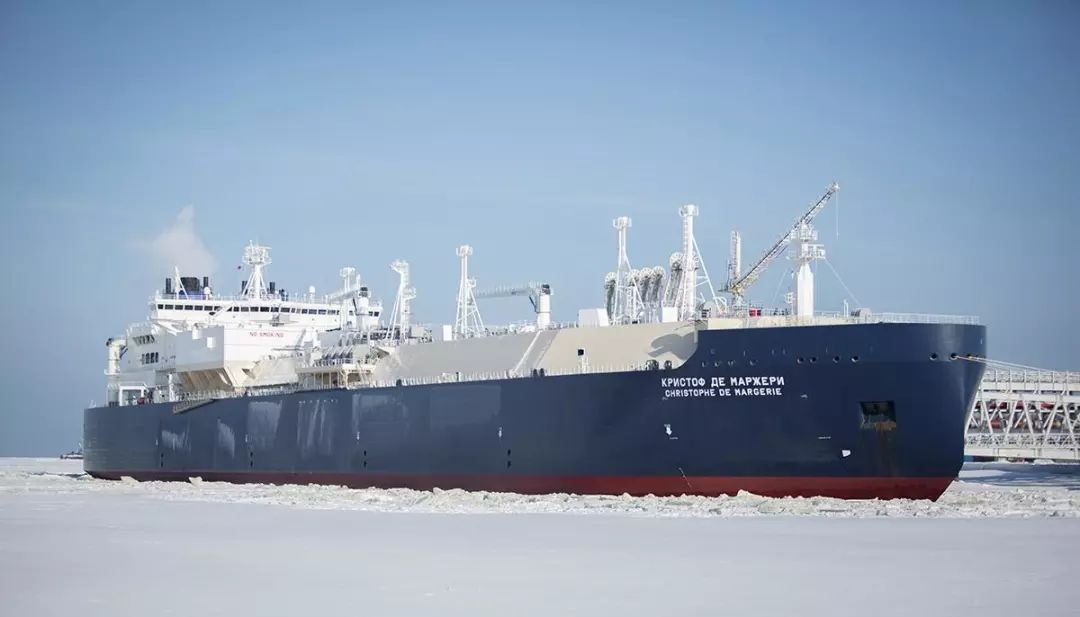Cargoship: (65, 176, 973, 507)
